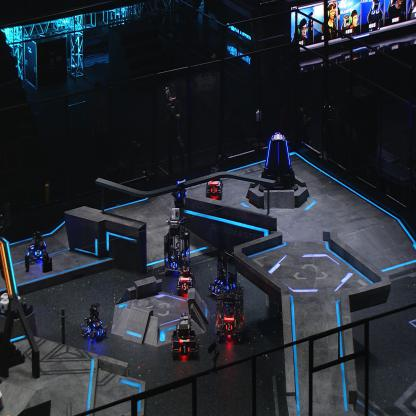car: (207, 246, 240, 301), (216, 284, 244, 342), (163, 217, 190, 276), (170, 312, 199, 357), (80, 302, 108, 342), (26, 230, 48, 262), (177, 257, 194, 293), (204, 166, 223, 198)
